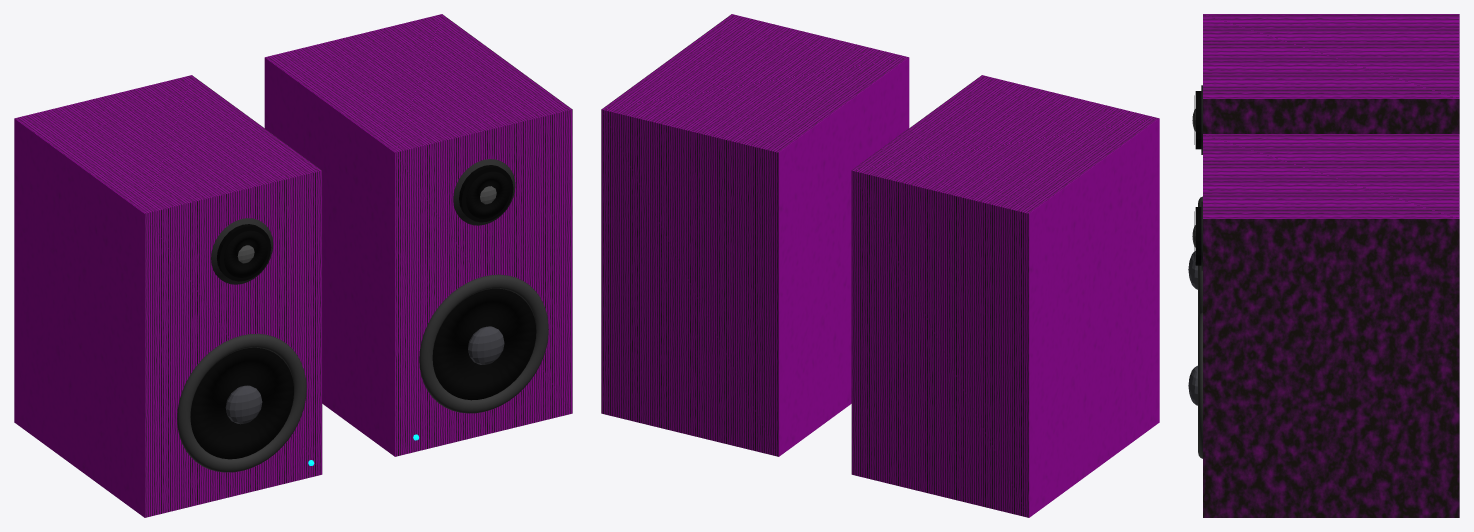
The model's file is product2.glb.
3 views of the same model, side by side, from view 1: azimuth 30°, elevation 25°; view 2: azimuth 150°, elevation 25°; view 3: azimuth 270°, elevation 25° (orthographic).
Parts seen in each view (by area): view 1: Speaker_L_Cabinet.001, Speaker_R_Cabinet, Speaker_R_Woofer.001, Speaker_L_Woofer, Torus(R), Torus(L), Speaker_L_Woofer.001, Speaker_R_Woofer.002, Speaker_L_DustCap, Speaker_R_DustCap, Cylinder(L), Cylinder(R) (+2 smaller); view 2: Speaker_L_Cabinet.001, Speaker_R_Cabinet; view 3: Speaker_R_Cabinet, Speaker_L_Cabinet.001, Torus(R), Speaker_R_Tweeter, Speaker_L_Tweeter.
Boxes of the visible parts, x1,y1,x2,y2 form: Speaker_L_Cabinet.001: (14, 75, 322, 517); Speaker_R_Cabinet: (264, 14, 572, 456); Speaker_R_Woofer.001: (432, 288, 536, 400); Speaker_L_Woofer: (190, 347, 293, 459); Torus(R): (419, 274, 548, 413); Torus(L): (177, 333, 306, 472); Speaker_L_Woofer.001: (224, 230, 267, 277); Speaker_R_Woofer.002: (466, 171, 510, 218); Speaker_L_DustCap: (225, 385, 262, 424); Speaker_R_DustCap: (468, 326, 504, 364); Cylinder(L): (211, 218, 273, 284); Cylinder(R): (453, 159, 515, 225); Speaker_L_Cabinet.001: (851, 75, 1159, 517); Speaker_R_Cabinet: (601, 14, 909, 456); Speaker_R_Cabinet: (1203, 134, 1459, 517); Speaker_L_Cabinet.001: (1203, 14, 1459, 133); Torus(R): (1198, 312, 1202, 458); Speaker_R_Tweeter: (1195, 207, 1201, 265); Speaker_L_Tweeter: (1195, 91, 1201, 149).
Bounding box in the file's own units: 0.53 × 0.36 × 0.296.
12 materials, 8 textured.
